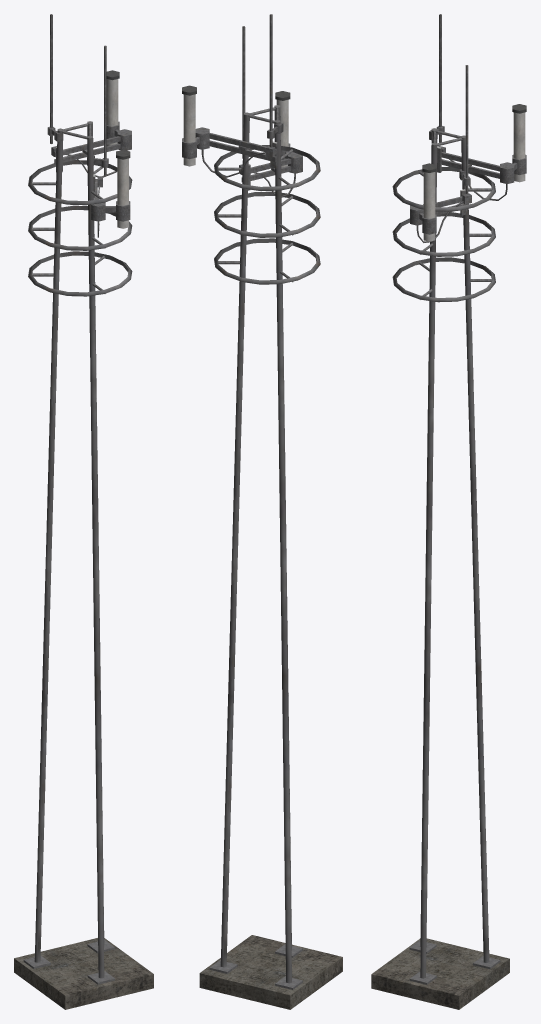
The model's file is antenna.fbx.
3 views of the same model, side by side, from view 1: azimuth 30°, elevation 25°; view 2: azimuth 150°, elevation 25°; view 3: azimuth 330°, elevation 25° (orthographic). The views are drawn at different scales.
Parts seen in each view (by area): view 1: polySurface651; view 2: polySurface651; view 3: polySurface651.
Boxes of the visible parts, bbox=[...] form: polySurface651: bbox=[14, 14, 153, 1009]; polySurface651: bbox=[182, 14, 342, 1009]; polySurface651: bbox=[371, 14, 526, 1009].
Bounding box in the file's own units: 2.64 × 22.64 × 2.53.
